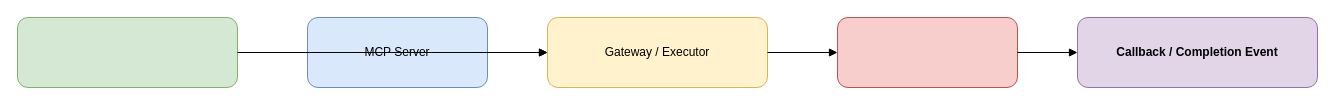
The diagram is 1335 pixels wide and 105 high, and some of its shapes have lost their labels. Each missing label, with the box of its shape:
Capability\nInvocation: (836, 16, 1018, 88)
Event Bus / Stream: (16, 16, 238, 88)
